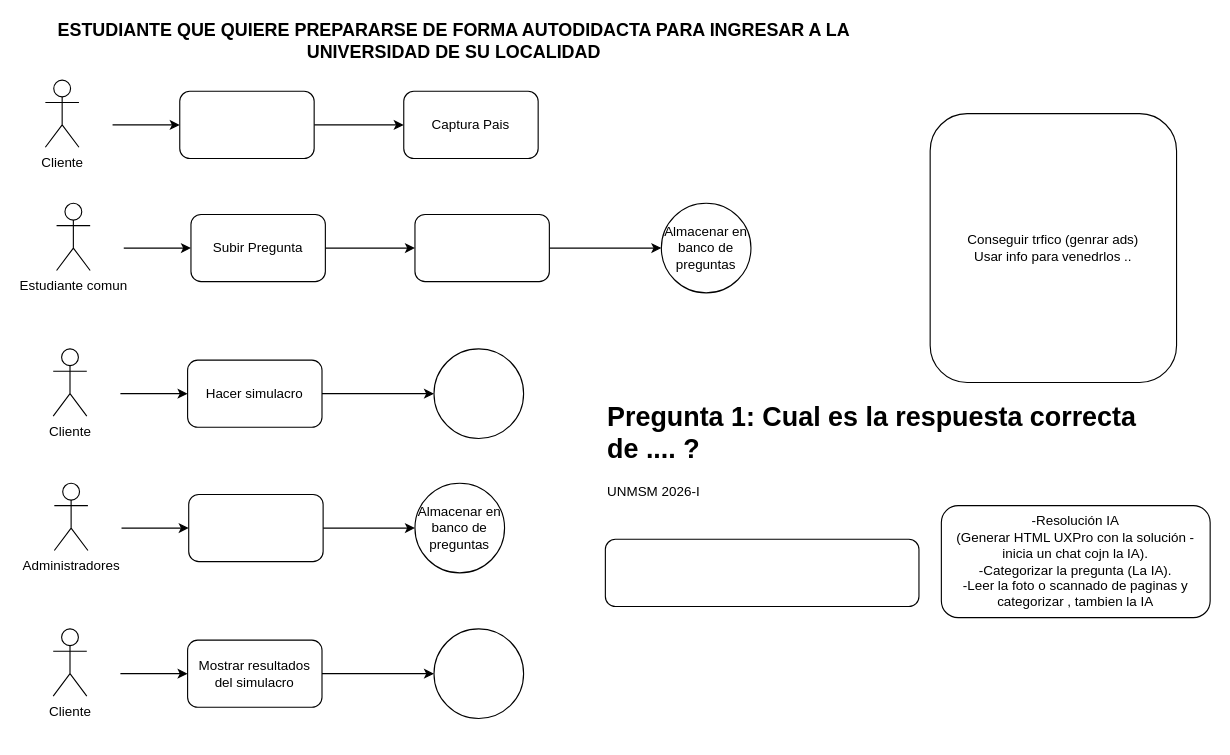
Image size: 1230x755. Some labels were removed from this diagram. Here are the shapes that lost their labels. From the top down, the centre of each, then its label:
At point 246,124: "Login".
At point 481,247: "Indicar Universidad y periodo".
At point 478,393: "Leer del banco de preguntas".
At point 255,527: "Subir preguntas masivamente".
At point 761,572: "Pais, Universidad, Año/Periodo, Categoría(Rubro, Dificultad, Carrera),".
At point 478,673: "Procesar evaluación y brindar resultados".
